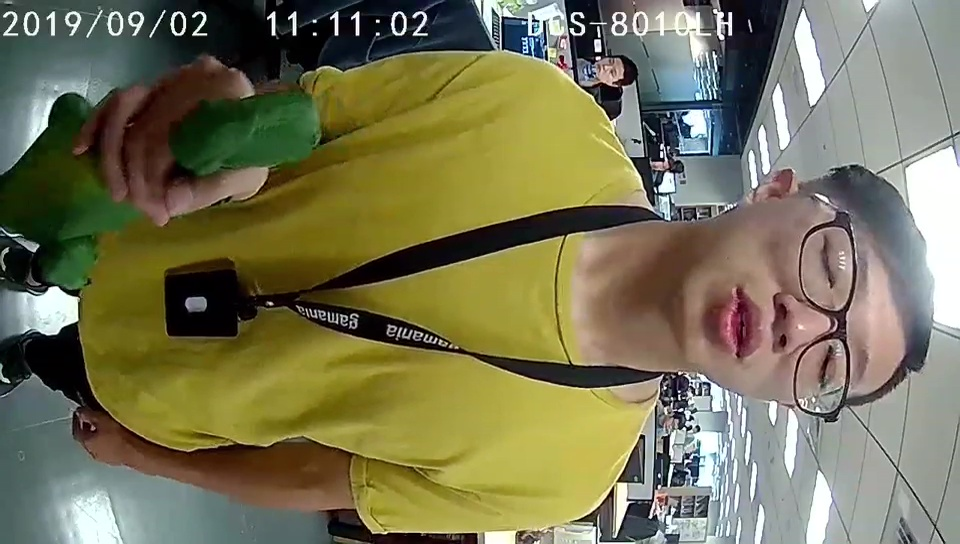rex: (41, 86, 322, 289)
